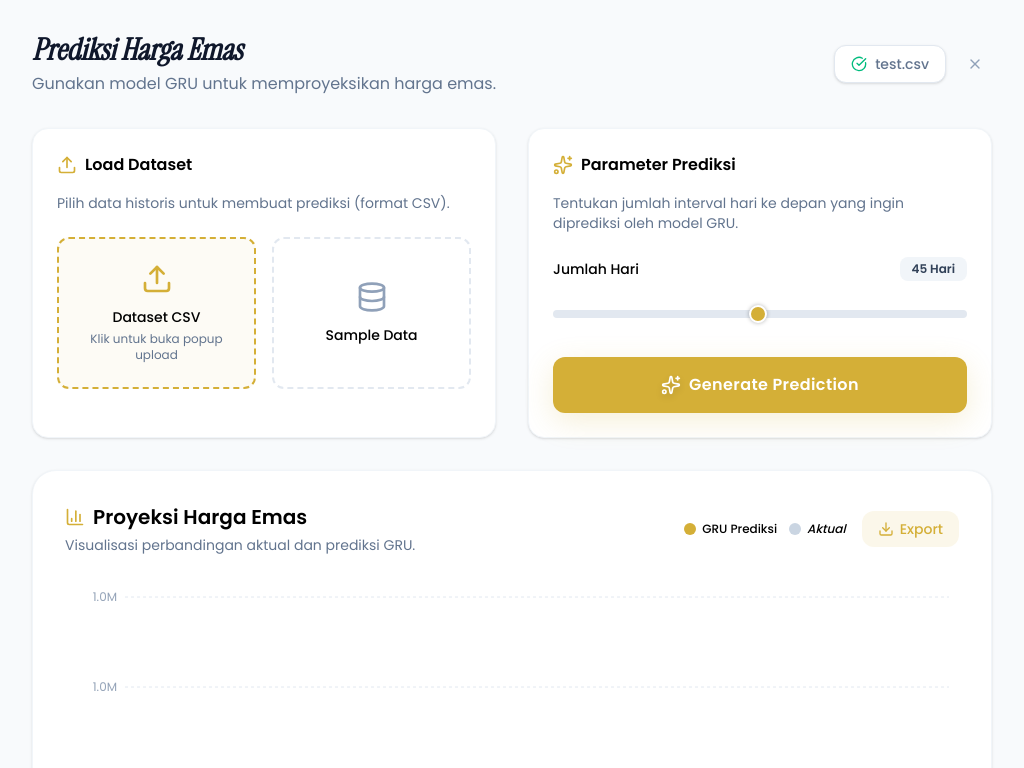
Predict Page › should open upload modal from Dataset CSV card
Click the button "Dataset CSV Klik untuk buka popup upload".
click(156, 313)  # box [57,237,256,389]
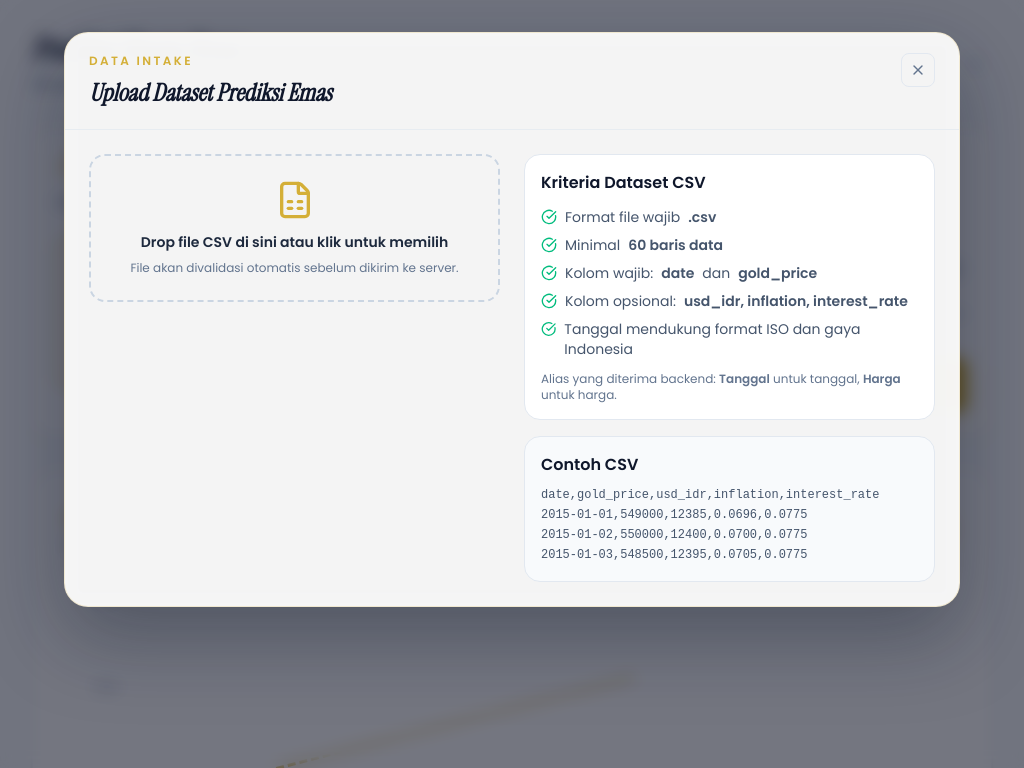
Now the dialog named "Upload Dataset CSV" is shown
